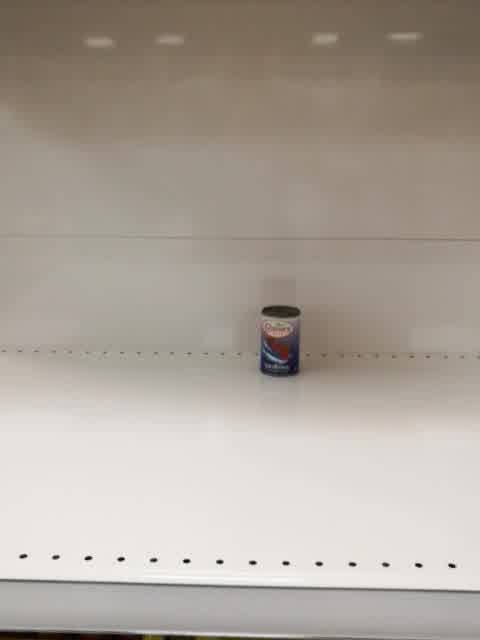sardine: (260, 304, 301, 377)
